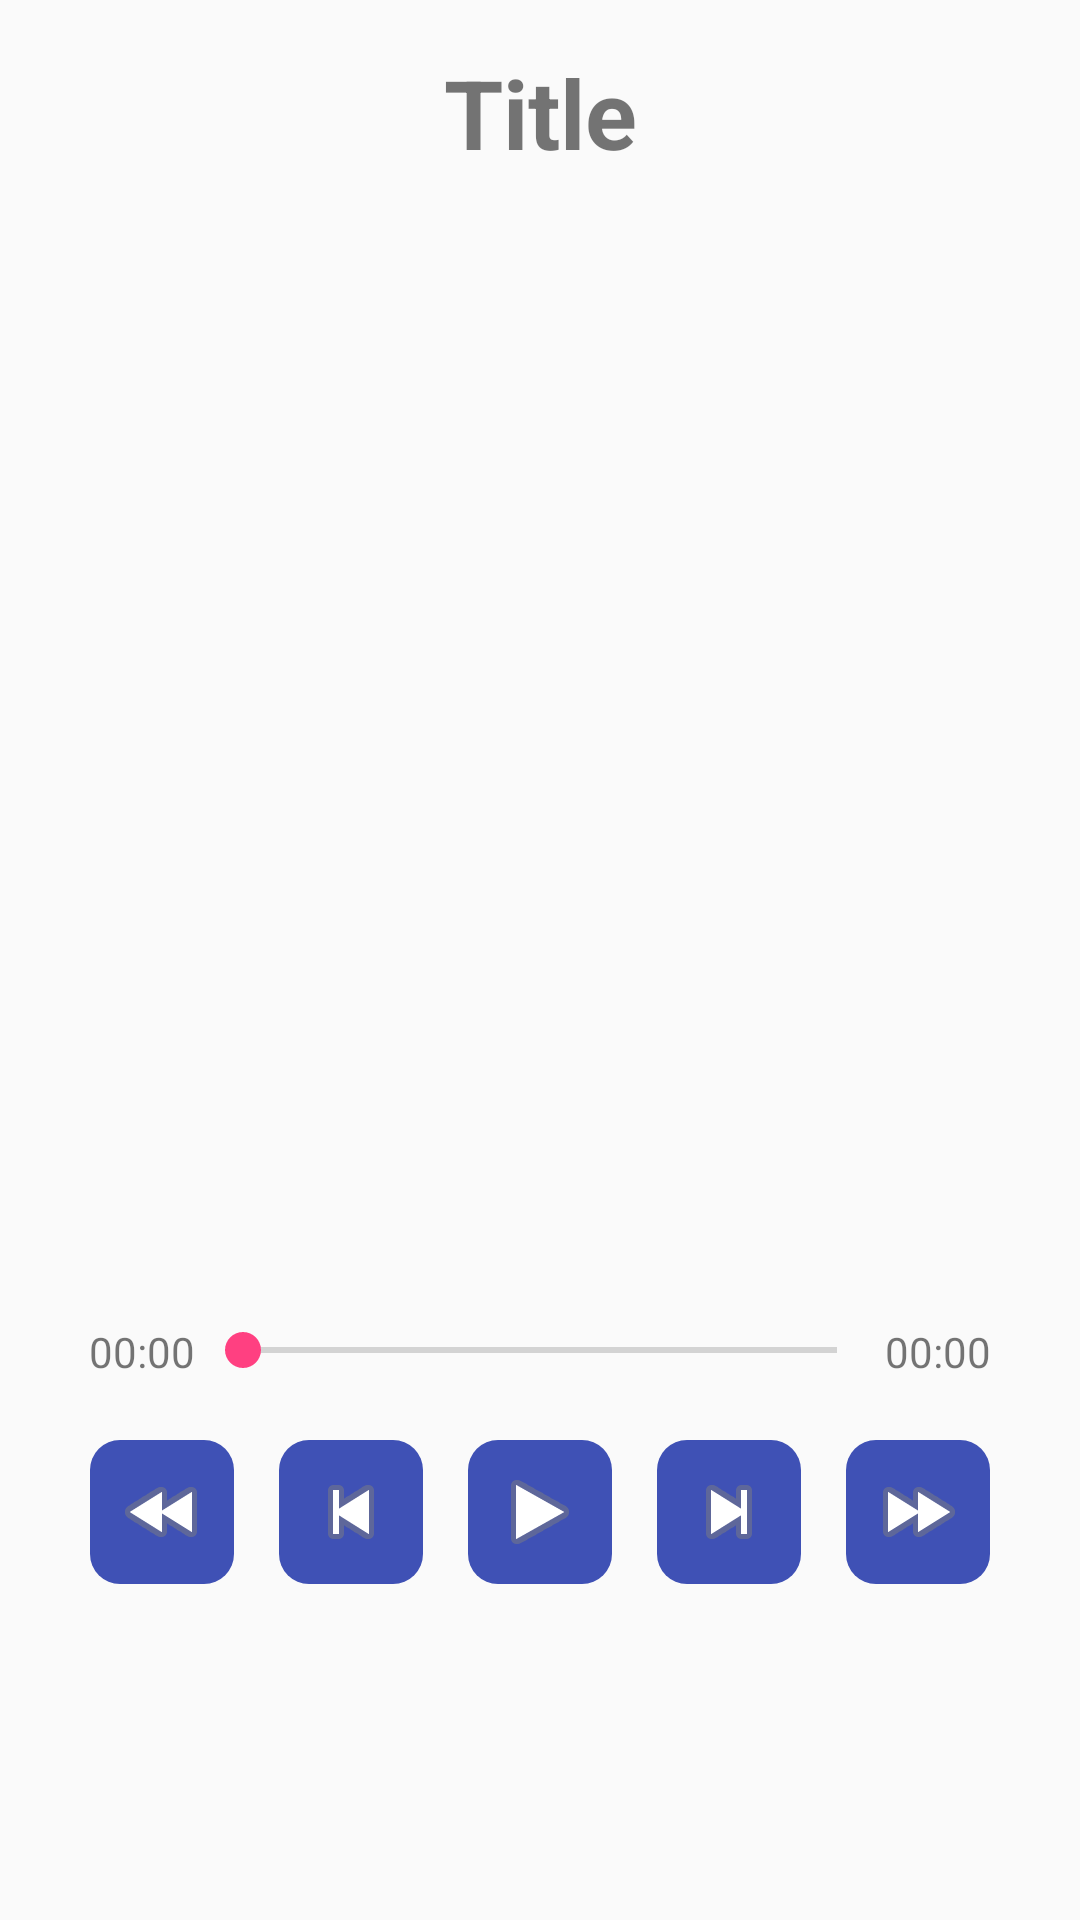

Icons on this 1080×1920 Android screen, each with its box as [x1,y1,x2,y2]:
backward: [90,1440,234,1584]
forward: [846,1440,990,1584]
NEXT: [657,1440,801,1584]
play: [468,1440,612,1584]
PREVIOUS: [279,1440,423,1584]
